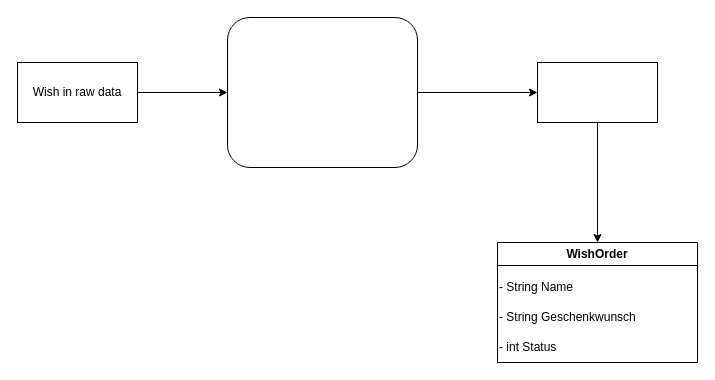
This 715x380 diagram has some shape labels left out. Here are the shapes that lost their labels. From the top down, the centre of each, then its label:
the point at 322,92: Magic Kafka Streams Transformation
the point at 597,92: Wish in structured data (Json, SQL)
